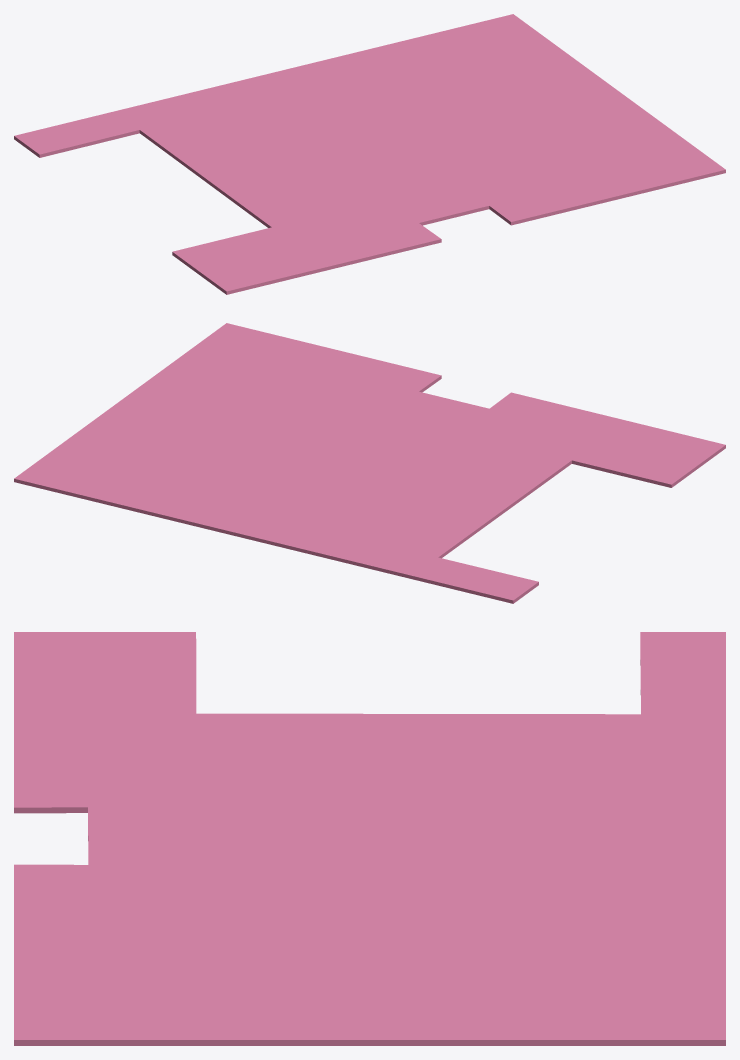
The model's file is Pavement.fbx.
The picture shows the model from 3 angles, top to bottom: view 1: azimuth 30°, elevation 25°; view 2: azimuth 150°, elevation 25°; view 3: azimuth 270°, elevation 25°; orthographic projection. The views are drawn at different scales.
Visible parts, largest first — view 1: Plane.004; view 2: Plane.004; view 3: Plane.004.
Part boxes in pixels (x1,y1,x2,y2): Plane.004: [14, 14, 725, 294]; Plane.004: [14, 323, 725, 603]; Plane.004: [14, 632, 725, 1045].
Size of the model in its own units: 3048 by 20 by 2248.
